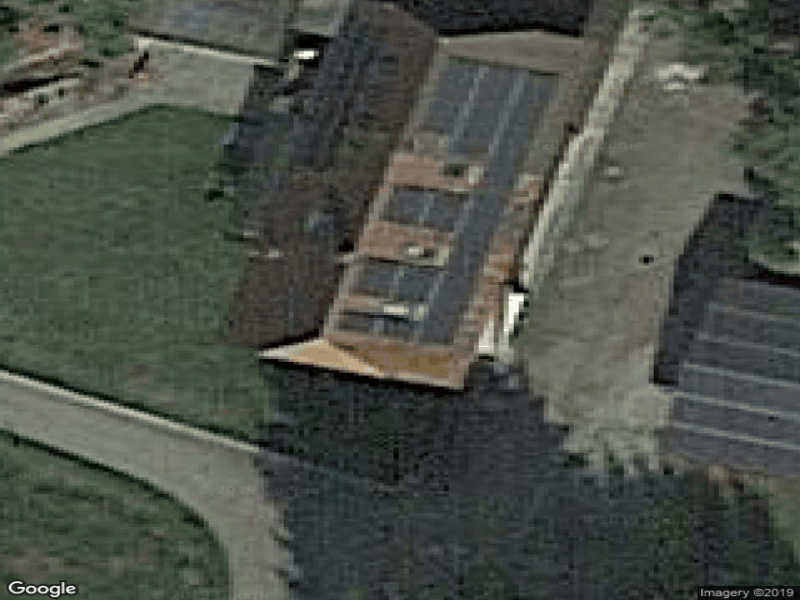pv: (345, 58, 552, 347)
